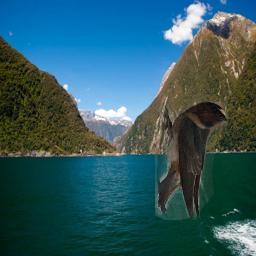Swallow: (155, 101, 228, 220)
